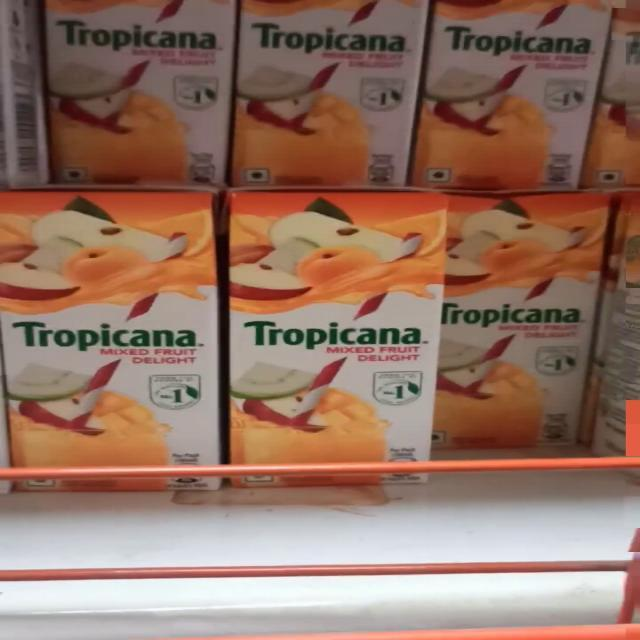Tropicana: (218, 190, 436, 500), (7, 187, 217, 503), (424, 0, 617, 197), (235, 0, 424, 189), (40, 0, 228, 184)
